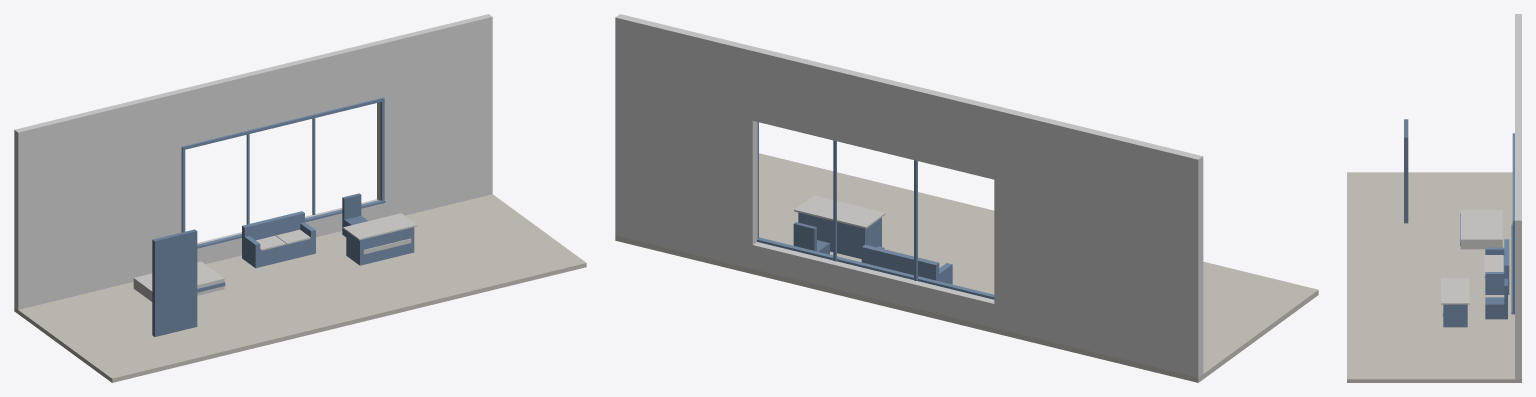
The model's file is set.glb.
3 renders of one model, left to right at view 1: azimuth 30°, elevation 25°; view 2: azimuth 150°, elevation 25°; view 3: azimuth 270°, elevation 25°, orthographic. The views are drawn at different scales.
Parts seen in each view (by area): view 1: studio; view 2: studio; view 3: studio.
Part boxes in pixels (bbox=[...]): studio: bbox=[14, 14, 586, 382]; studio: bbox=[615, 14, 1318, 382]; studio: bbox=[1347, 14, 1521, 382].
Bounding box in the file's own units: 14 × 5.12 × 5.
